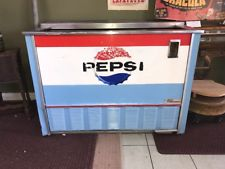pepsi: (92, 46, 131, 83)
